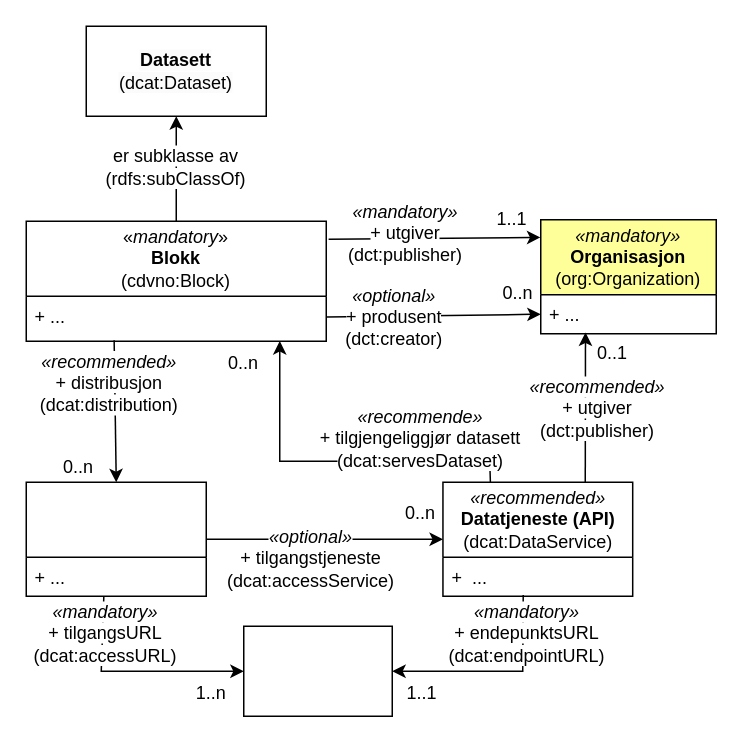
The diagram is 743 pixels wide and 743 high, and some of its shapes have lost their labels. The shapes that lost their labels are listed below. From the top down, each one's box as (x1, y1, x2, y2) in pixels, then its label:
(25, 481, 206, 596): «recommended» Distribusjon (dcat:Distribution)
(242, 625, 392, 716): Innhold (rdfs:Resource)
